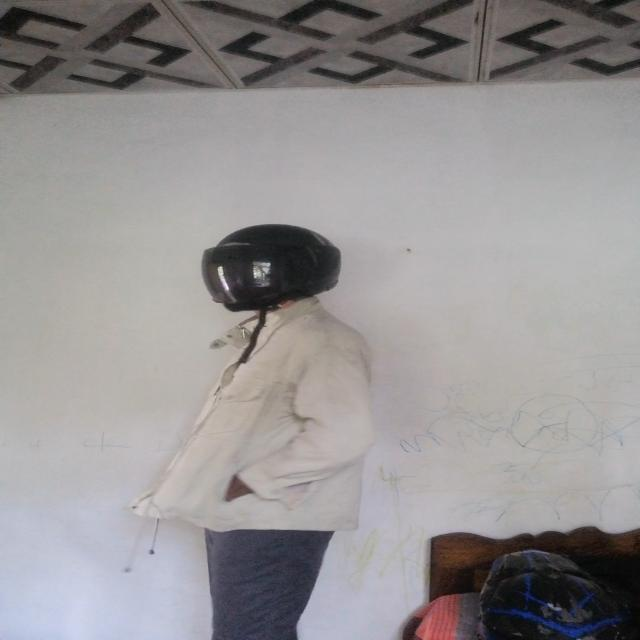Helmet_Wearer: (180, 224, 356, 314)
Jacket_Wearer: (154, 304, 384, 544)
Person: (138, 215, 385, 640)
